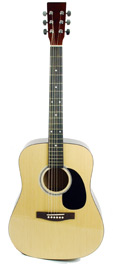guitar: (9, 3, 106, 261)
